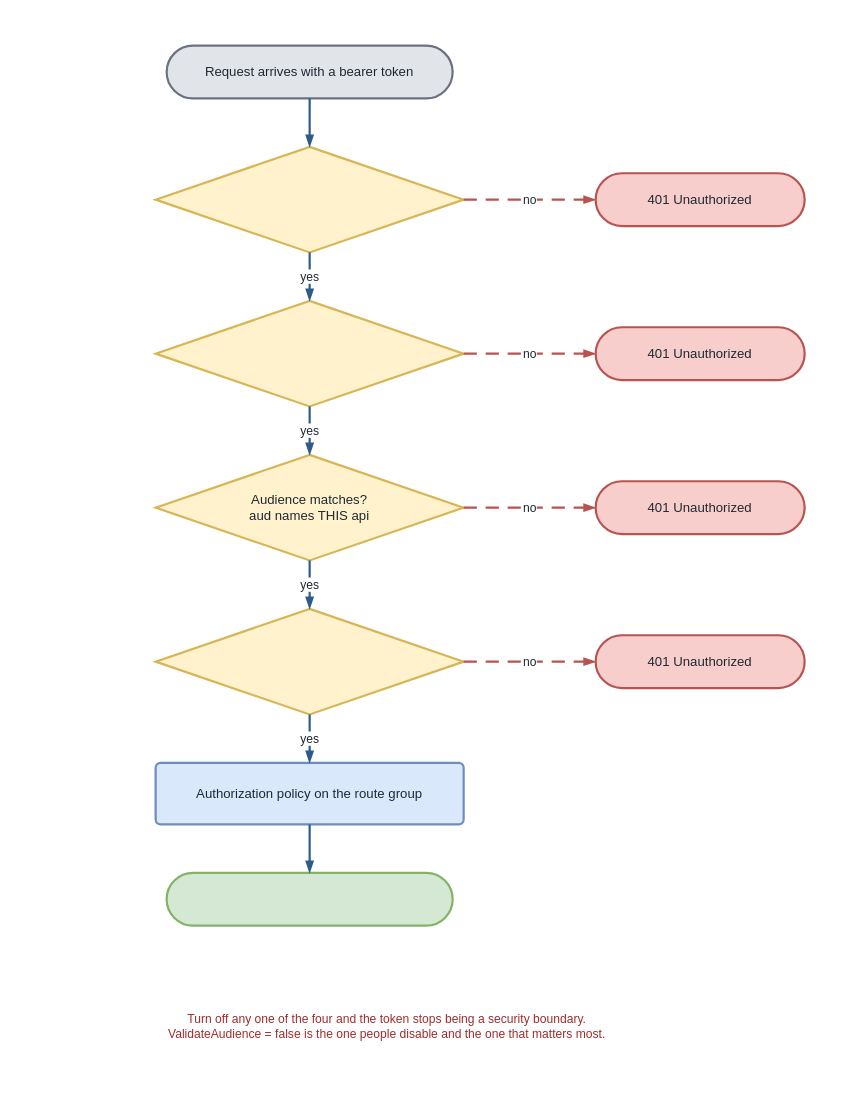
Some shapes in this 849 by 1096 pixel diagram are drawn without their labels. The shapes that lost their labels are listed below. From the top down, each one's centre as x and y in pixels, then its label:
pixel 309 199: Signature valid? Signed with the key we trust
pixel 309 353: Issuer matches? iss is who we expect
pixel 309 661: Still in its lifetime? exp and nbf, 30s clock skew
pixel 309 898: 200 - the endpoint runs
